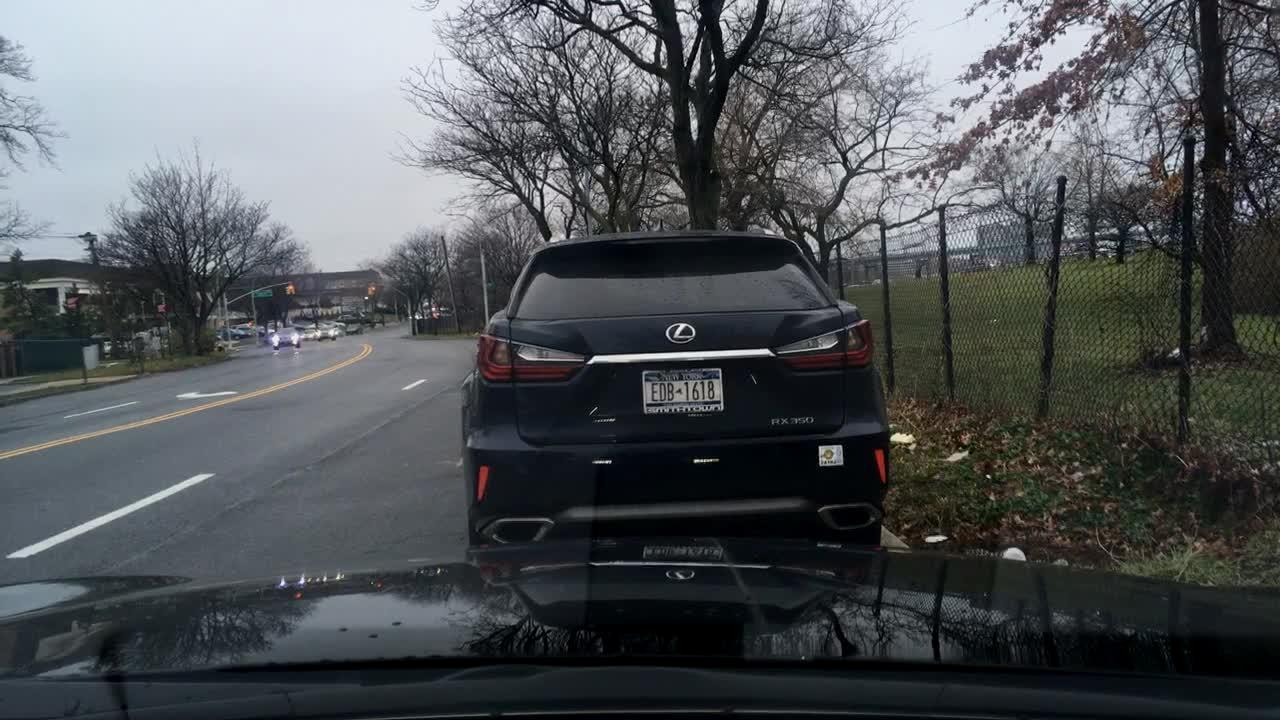lexus: (657, 306, 712, 357)
